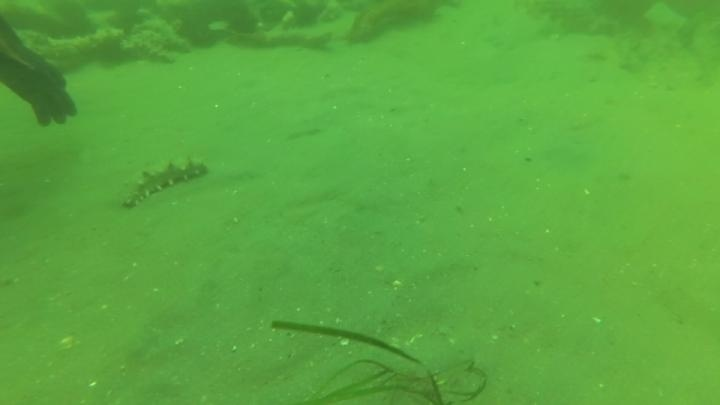holothurian: (117, 153, 211, 210), (32, 25, 127, 72), (129, 16, 202, 53), (123, 39, 178, 64), (121, 29, 169, 48)
